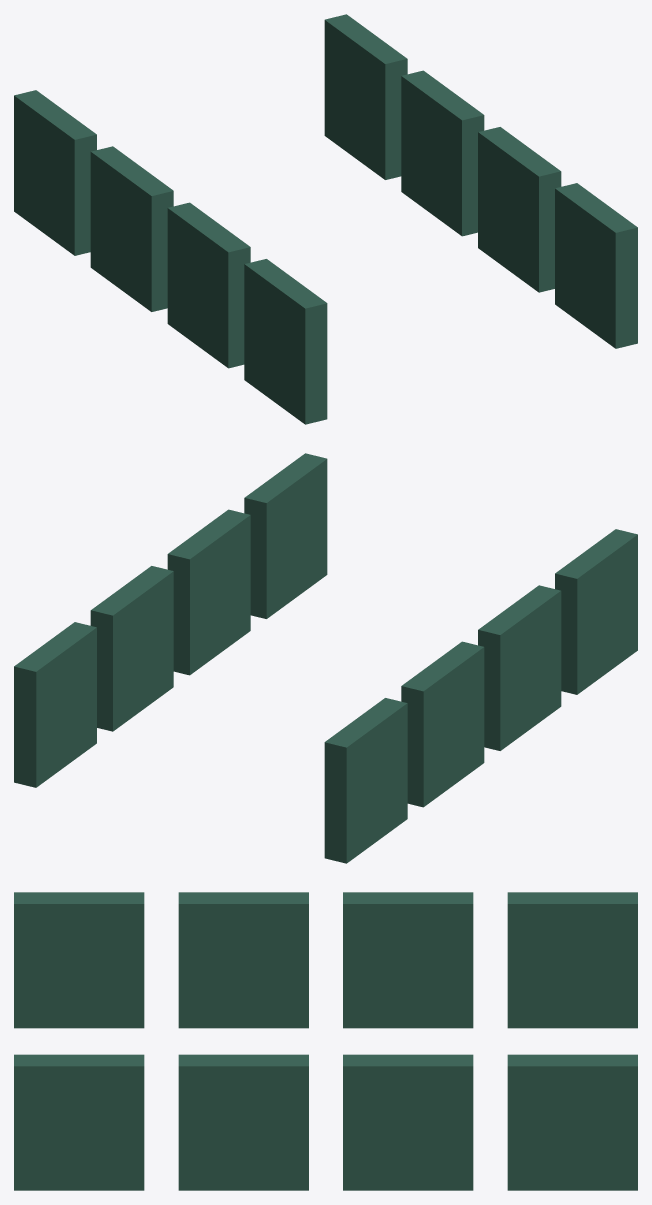
File: vls8_cell_thermal.obj
The picture shows the model from 3 angles, top to bottom: view 1: azimuth 30°, elevation 25°; view 2: azimuth 150°, elevation 25°; view 3: azimuth 270°, elevation 25°; orthographic projection. The views are drawn at different scales.
Parts seen in each view (by area): view 1: vls8_cell_thermal; view 2: vls8_cell_thermal; view 3: vls8_cell_thermal.
Boxes of the visible parts, bbox=[...] form: vls8_cell_thermal: bbox=[14, 14, 637, 424]; vls8_cell_thermal: bbox=[14, 453, 637, 863]; vls8_cell_thermal: bbox=[14, 892, 637, 1190].
Size of the model in its own units: 3 by 1 by 4.55.
